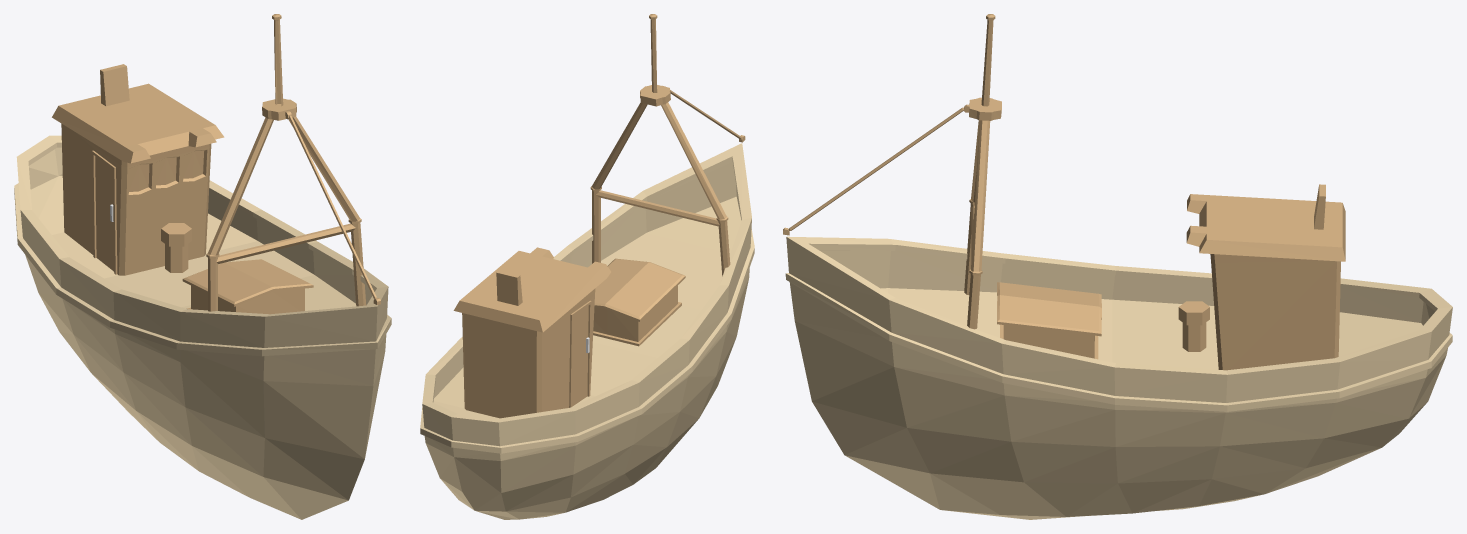
The model's file is Boat.fbx.
3 renders of one model, left to right at view 1: azimuth 30°, elevation 25°; view 2: azimuth 150°, elevation 25°; view 3: azimuth 270°, elevation 25°, orthographic. The views are drawn at different scales.
Visible parts, largest first — view 1: skp1284_1; view 2: skp1284_1; view 3: skp1284_1.
Part boxes in pixels (bbox=[...]): skp1284_1: bbox=[14, 14, 391, 519]; skp1284_1: bbox=[420, 14, 754, 519]; skp1284_1: bbox=[783, 14, 1452, 519].
Size of the model in its own units: 4.47 by 10.03 by 12.06.
